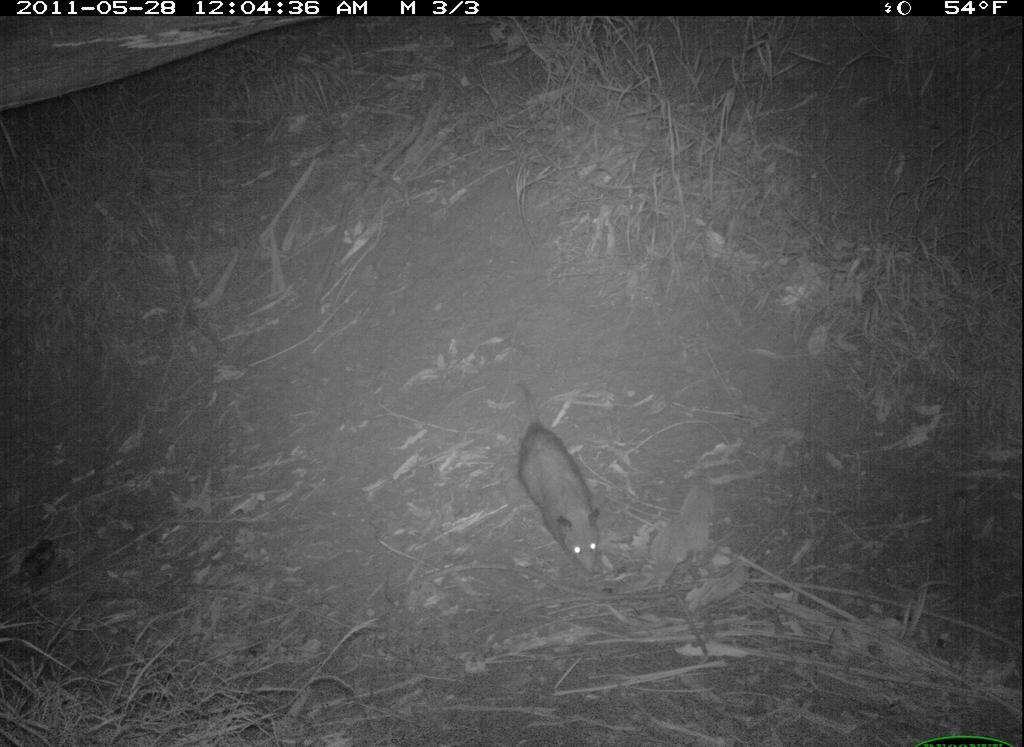opossum: (491, 373, 641, 611)
